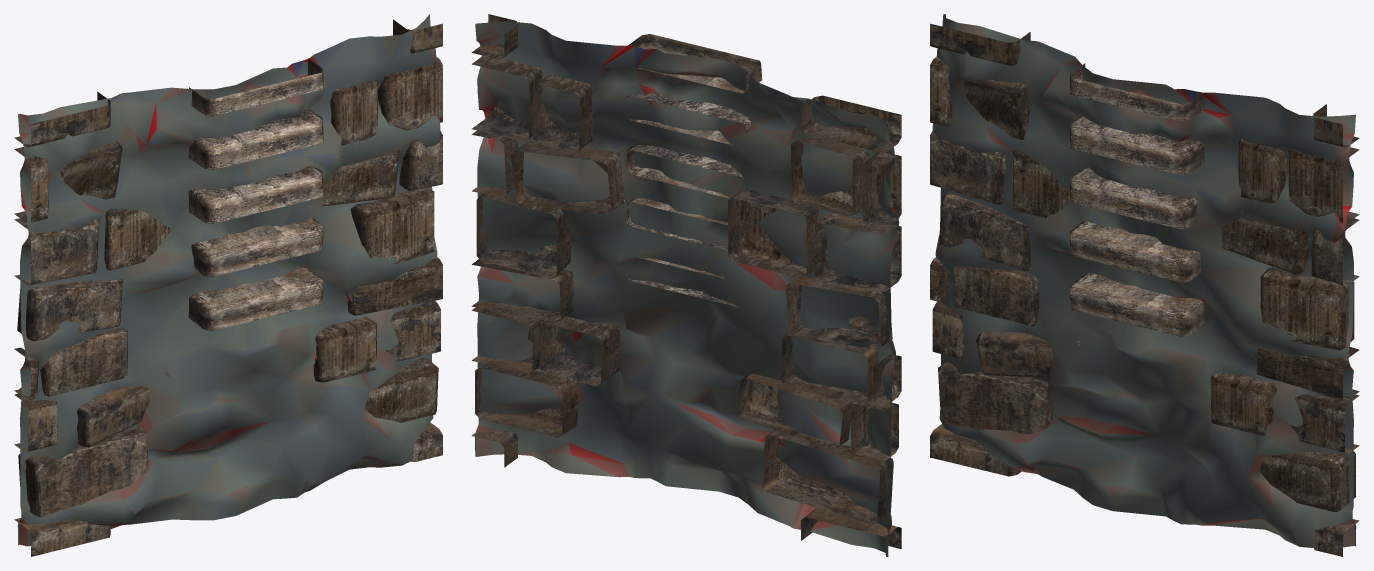
Rendered from taureg_straight_ladder_bottom_broken.dae.
3 views of the same model, side by side, from view 1: azimuth 30°, elevation 25°; view 2: azimuth 150°, elevation 25°; view 3: azimuth 330°, elevation 25° (orthographic).
Parts seen in each view (by area): view 1: Mesh, LO2, Mesh__2_; view 2: Mesh, LO2, Mesh__2_; view 3: Mesh, LO2, Mesh__2_.
Boxes of the visible parts, x1,y1,x2,y2 form: Mesh: [17, 14, 440, 546]; LO2: [14, 19, 442, 556]; Mesh__2_: [188, 58, 323, 331]; Mesh: [475, 21, 899, 556]; LO2: [471, 14, 901, 548]; Mesh__2_: [626, 34, 762, 307]; Mesh: [932, 14, 1356, 547]; LO2: [930, 23, 1359, 556]; Mesh__2_: [1069, 63, 1204, 336].
Size of the model in its own units: 4 by 4.02 by 0.6398.
